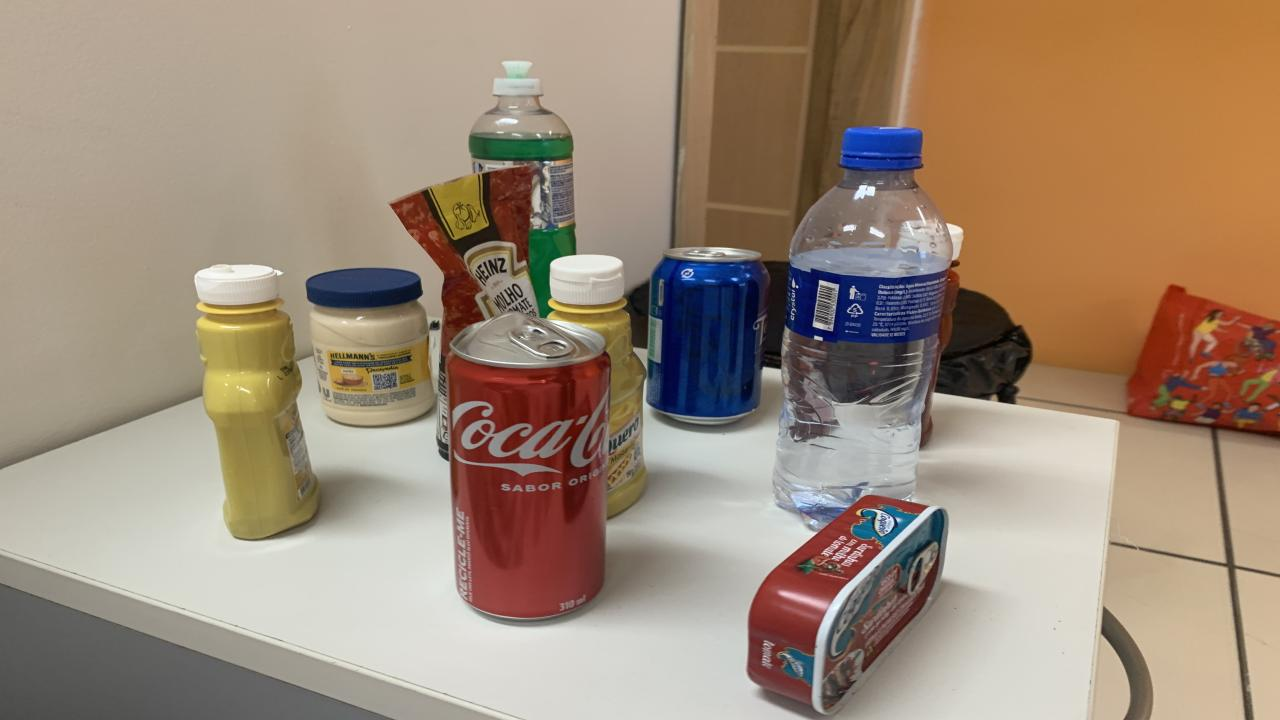Coke-Drinks: (448, 311, 610, 621)
Detergent-Cleanup_Items: (470, 62, 575, 315)
Mayonnaise-Pantry_Items: (305, 268, 435, 426)
Mustard-Pantry_Items: (195, 264, 320, 538), (548, 255, 648, 516)
Tomato_Sauce-Pantry_Items: (390, 165, 540, 407)
Tonic-Drinks: (648, 248, 770, 424)
Tuna_Can-Pantry_Items: (748, 495, 948, 714)
Water_Bottle-Drinks: (772, 128, 952, 529)
